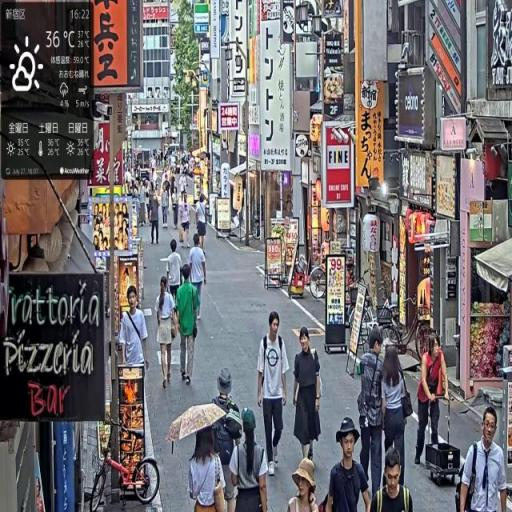person: (256, 310, 290, 479), (459, 404, 509, 512), (358, 330, 388, 507), (415, 329, 450, 471), (323, 416, 373, 512), (292, 326, 323, 469), (230, 408, 270, 512), (118, 285, 151, 382), (189, 429, 227, 512), (175, 265, 201, 385), (369, 446, 415, 512), (156, 275, 178, 389), (287, 458, 323, 512), (189, 232, 208, 327), (167, 239, 184, 333), (195, 192, 209, 253), (150, 191, 163, 248), (180, 195, 192, 250), (163, 186, 172, 227)
